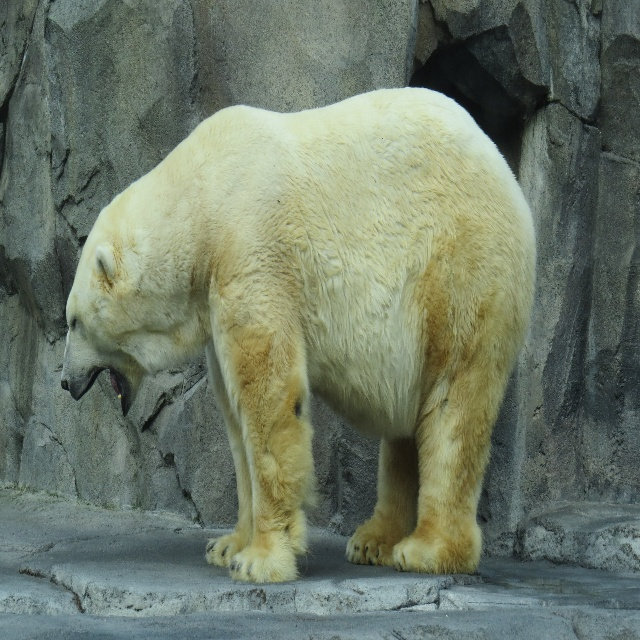Polar bear: (61, 86, 537, 583)
